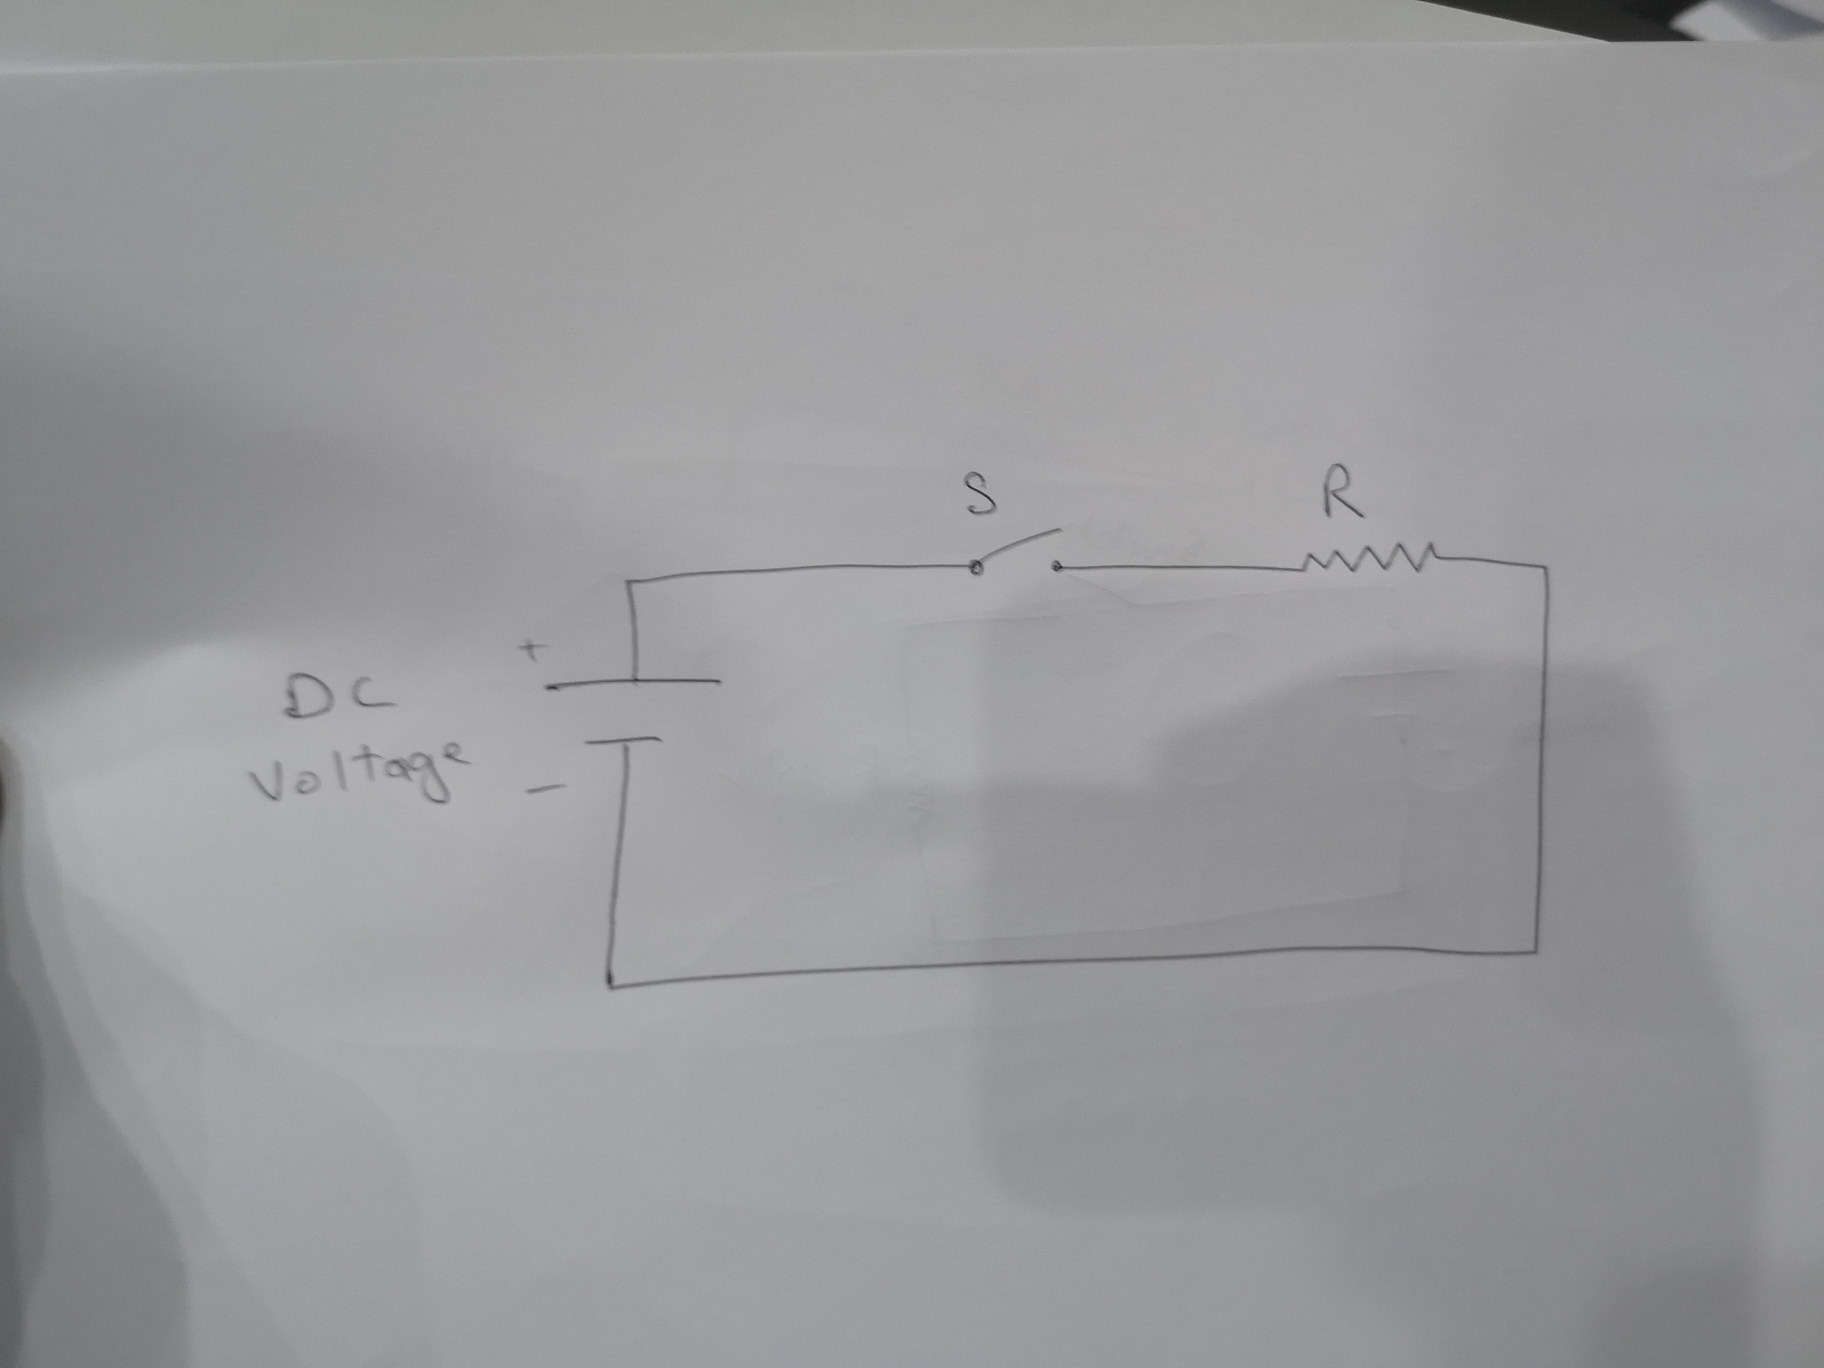junction: (595, 969, 628, 999), (615, 570, 642, 598), (1531, 555, 1557, 581), (1527, 943, 1545, 963)
resistor: (1285, 537, 1451, 581)
switch: (967, 512, 1071, 583)
text: (248, 739, 473, 815), (274, 665, 406, 721), (1318, 456, 1374, 523), (957, 463, 1002, 523)
voltage.dc: (536, 671, 730, 763)
